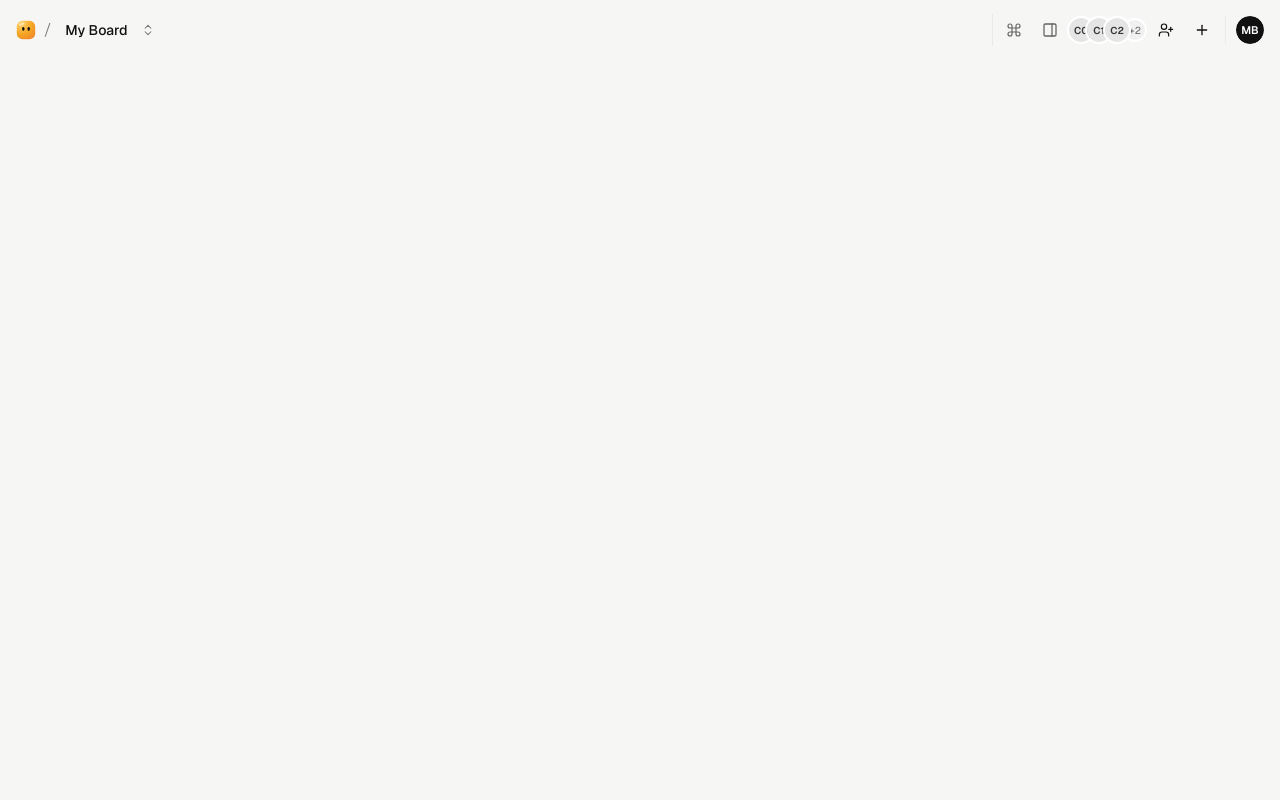
opens every accepted contributor and their role from the header overflow
The image size is (1280, 800).
Click the button named "People on this board (5)": [1108, 30] box [1069, 14, 1147, 46]
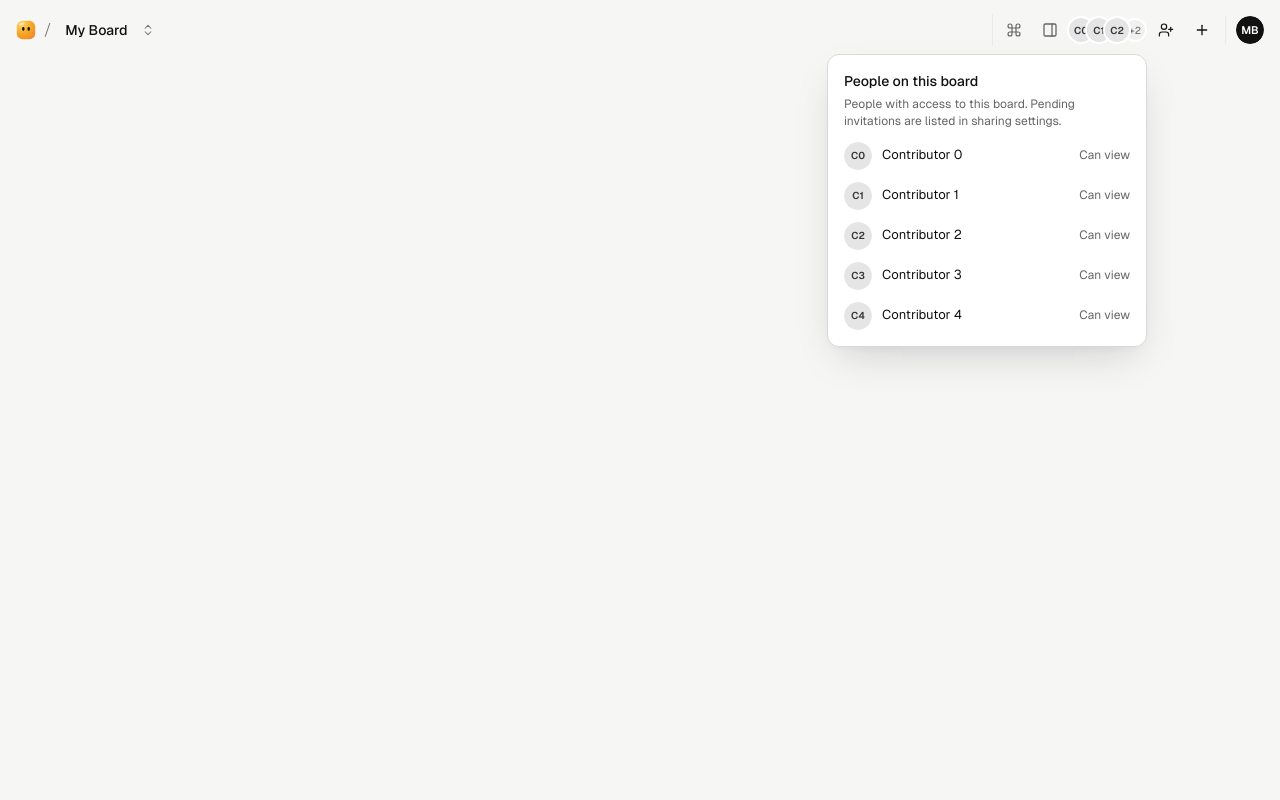
Now the text "Contributor 4" is shown, box [882, 307, 962, 322]
Now the text "Can view" is shown 5 times, box [1079, 147, 1130, 164]; [1079, 187, 1130, 204]; [1079, 227, 1130, 244]; [1079, 267, 1130, 284]; [1079, 307, 1130, 324]
